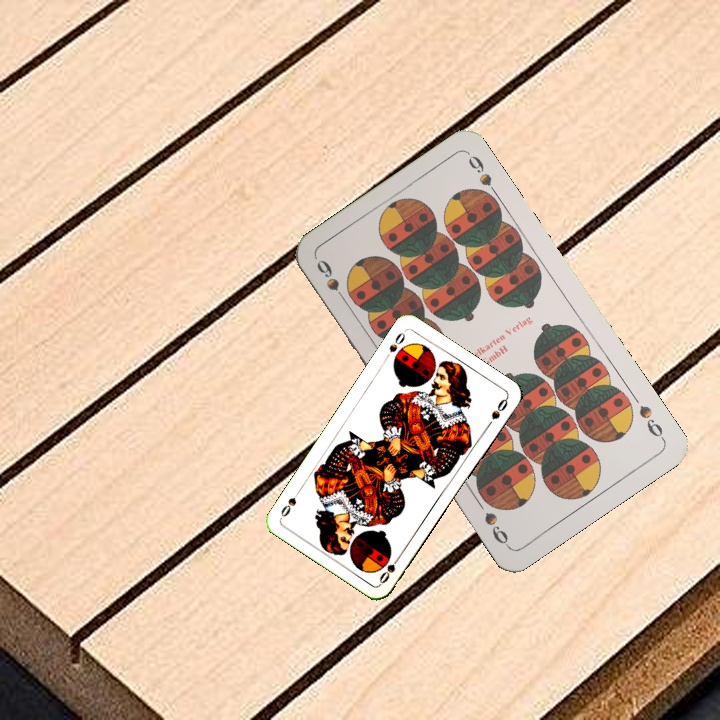S9: (312, 255, 351, 308), (634, 401, 667, 443)
SO: (375, 550, 404, 586), (385, 327, 408, 355)
